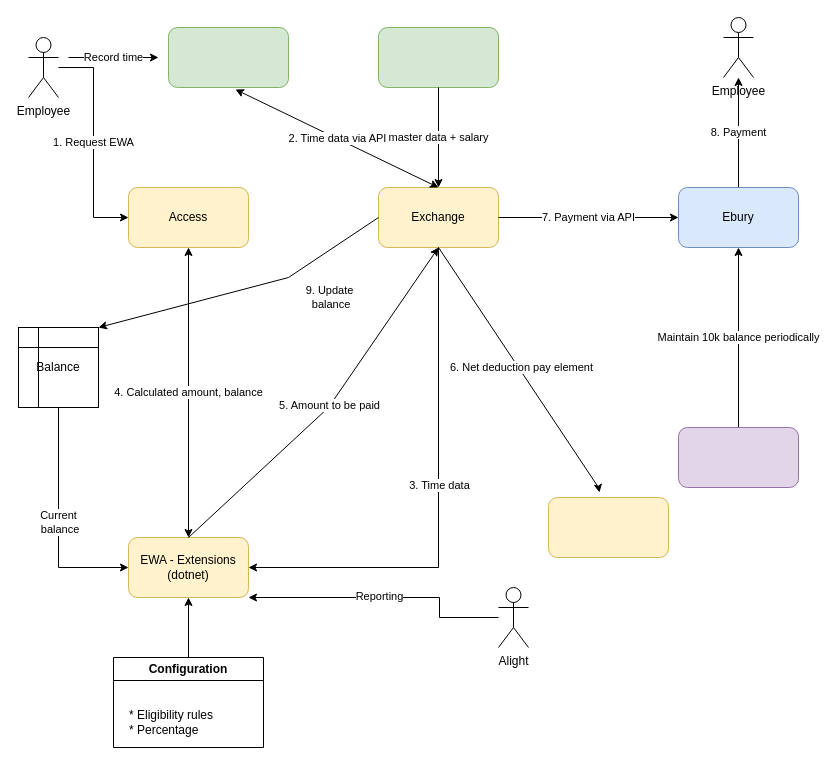
The diagram is 837 pixels wide and 775 high, and some of its shapes have lost their labels. The centre of each missing label's shape, as x and y in pixels:
"Client" belongs at point 738,457.
"eureka" belongs at point 608,527.
"HRIS" belongs at point 438,57.
"HRIS Time" belongs at point 228,57.
